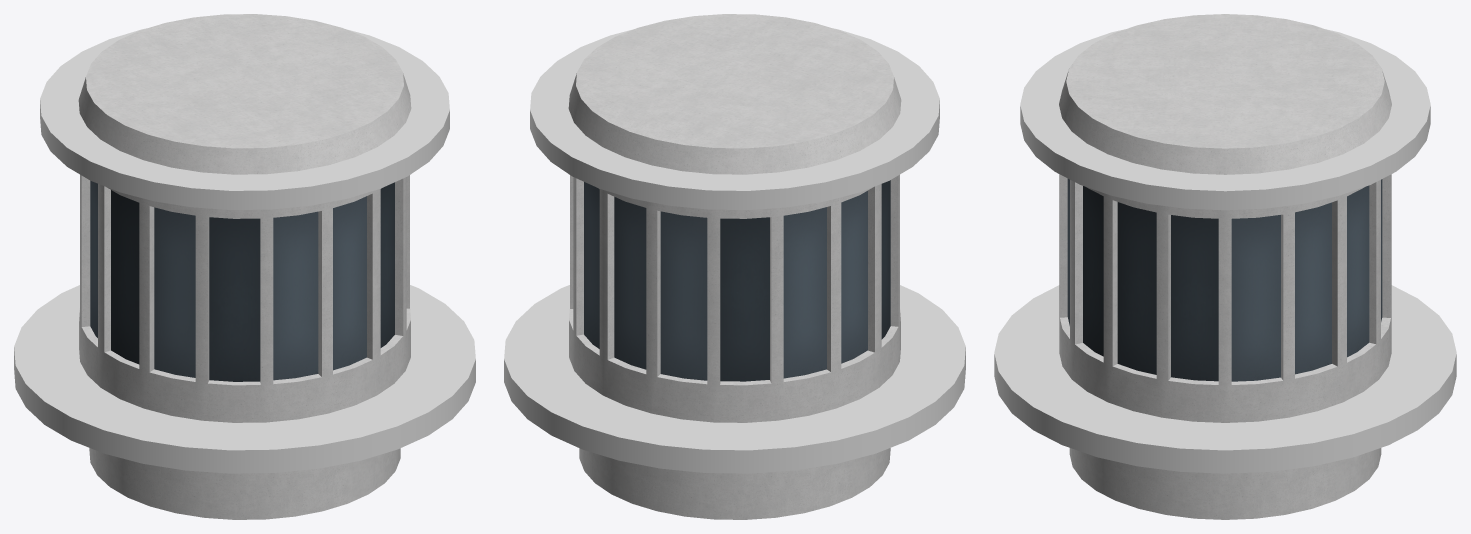
The model's file is MB_Tower_A.fbx.
3 renders of one model, left to right at view 1: azimuth 30°, elevation 25°; view 2: azimuth 150°, elevation 25°; view 3: azimuth 270°, elevation 25°, orthographic.
Parts seen in each view (by area): view 1: MB_Tower_A_LOD0; view 2: MB_Tower_A_LOD0; view 3: MB_Tower_A_LOD0.
Part boxes in pixels (x1=…): MB_Tower_A_LOD0: x1=14, y1=14, x2=475, y2=519; MB_Tower_A_LOD0: x1=504, y1=14, x2=965, y2=519; MB_Tower_A_LOD0: x1=994, y1=14, x2=1456, y2=519.
Size of what is drawn, in the model's own units: 581 by 517 by 581.
